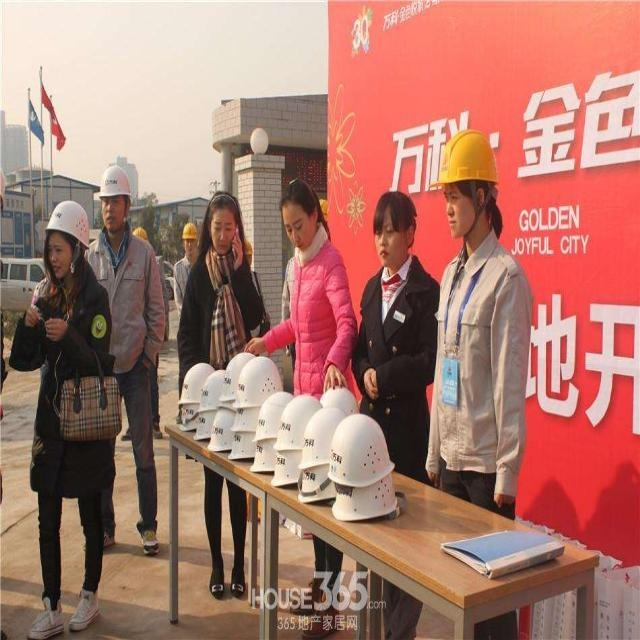Con_Casco: (440, 133, 499, 236)
Sin_Casco_Mascarrilla: (375, 193, 420, 266), (280, 181, 324, 255)
Sin_Chaleco: (442, 256, 525, 473)
